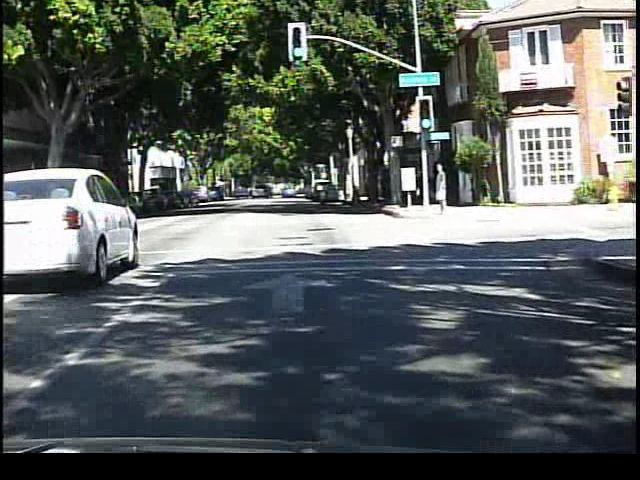person: (430, 158, 452, 217)
